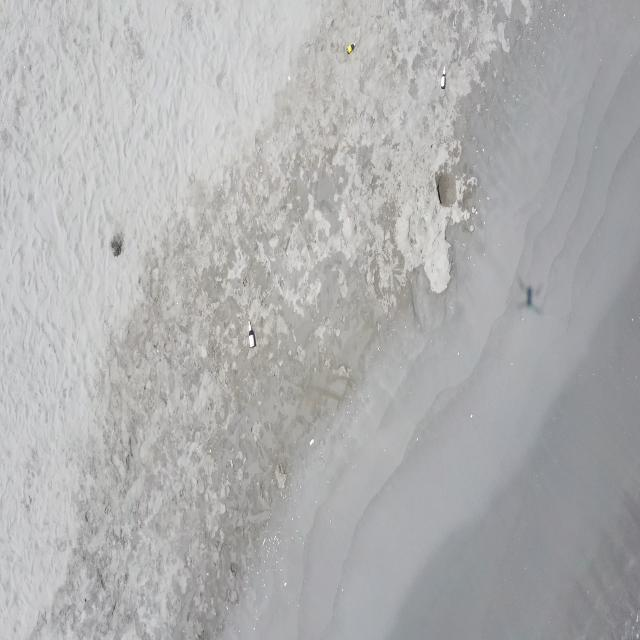glass: (247, 320, 256, 349), (440, 66, 447, 90), (346, 41, 356, 54)
